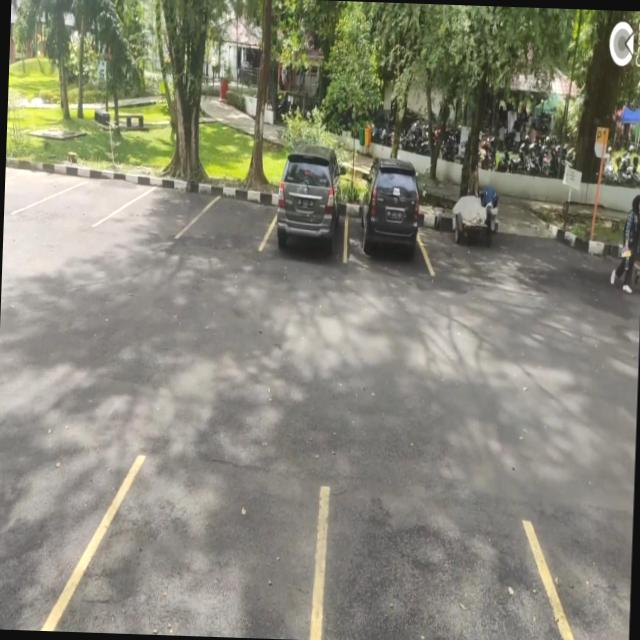car: (344, 166, 428, 267), (265, 162, 348, 264)
free: (66, 454, 332, 640), (314, 480, 571, 640), (191, 180, 272, 252), (122, 176, 200, 242), (44, 168, 123, 229), (4, 158, 46, 215)
